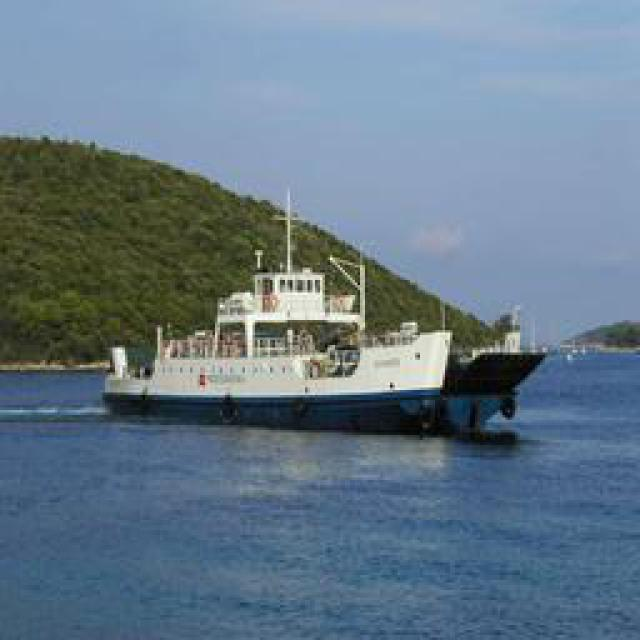Ship: (104, 176, 494, 434)
